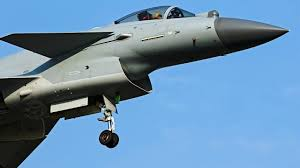fighter: (1, 3, 290, 156)
